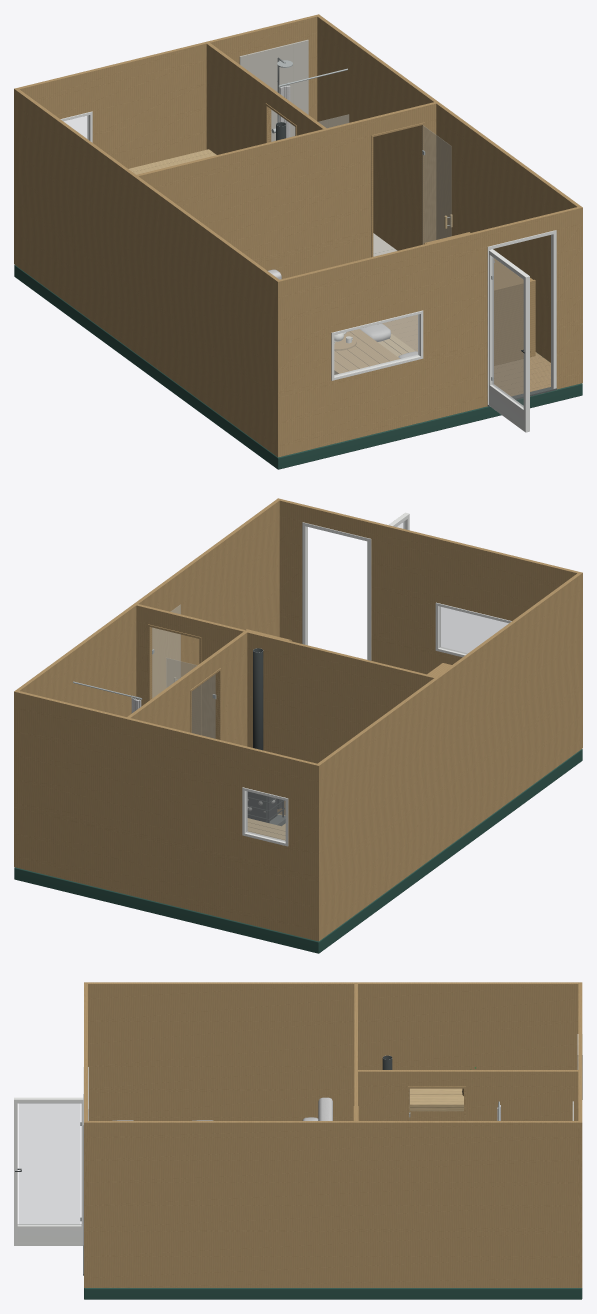
The picture shows the model from 3 angles, top to bottom: view 1: azimuth 30°, elevation 25°; view 2: azimuth 150°, elevation 25°; view 3: azimuth 270°, elevation 25°; orthographic projection. The views are drawn at different scales.
Parts seen in each view (by area): view 1: DP10-W03, DP10-W01, DP10-W04, DP10-W06, DP10-W02, Dimensioned foundation, Hinge_DP10-D03, DP10-W05, Window p10_i3614, Shower tray and wall mounted column, DP10-O09, Hinge_DP10-D02 (+6 smaller); view 2: DP10-W02, DP10-W03, DP10-W01, DP10-W04, DP10-W06, Dimensioned foundation, DP10-W05, Window p10_i3614, Window p10_i3612, ASTON dimensioned stove and remote firebox, Hinge_DP10-D01, Hinge_DP10-D02 (+3 smaller); view 3: DP10-W04, DP10-W03, Hinge_DP10-D03, DP10-W05, Dimensioned foundation, DP10-W02, DP10-W01, ВП2 upper, DP10-W06.
Part boxes in pixels (box(x1,y1,x2,y2)): DP10-W03: box(16, 89, 278, 455); DP10-W01: box(276, 206, 582, 457); DP10-W04: box(317, 16, 580, 362); DP10-W06: box(136, 102, 436, 278); DP10-W02: box(14, 14, 320, 265); Dimensioned foundation: box(14, 265, 582, 469); Hinge_DP10-D03: box(489, 249, 529, 432); DP10-W05: box(206, 43, 326, 154); Window p10_i3614: box(331, 310, 423, 380); Shower tray and wall mounted column: box(239, 39, 347, 141); DP10-O09: box(424, 232, 535, 365); Hinge_DP10-D02: box(422, 125, 452, 244); DP10-W02: box(14, 690, 320, 941); DP10-W03: box(318, 573, 580, 939); DP10-W01: box(276, 498, 582, 749); DP10-W04: box(16, 500, 279, 716); DP10-W06: box(136, 604, 435, 815); Dimensioned foundation: box(14, 749, 582, 953); DP10-W05: box(127, 632, 247, 746); Window p10_i3614: box(435, 602, 511, 657); Window p10_i3612: box(242, 787, 288, 846); ASTON dimensioned stove and remote firebox: box(247, 648, 285, 825); Hinge_DP10-D01: box(166, 658, 215, 738); Hinge_DP10-D02: box(152, 604, 180, 698); DP10-W04: box(88, 1121, 578, 1287); DP10-W03: box(88, 982, 578, 1120); Hinge_DP10-D03: box(14, 1097, 83, 1245); DP10-W05: box(358, 1070, 578, 1120); Dimensioned foundation: box(84, 1288, 582, 1299); DP10-W02: box(578, 982, 582, 1287); DP10-W01: box(84, 982, 87, 1287); ВП2 upper: box(410, 1088, 463, 1107); DP10-W06: box(354, 984, 357, 1120).
Bounding box in the file's own units: 4 × 2.36 × 6.85.
Materials: 33 (14 with a texture image).
